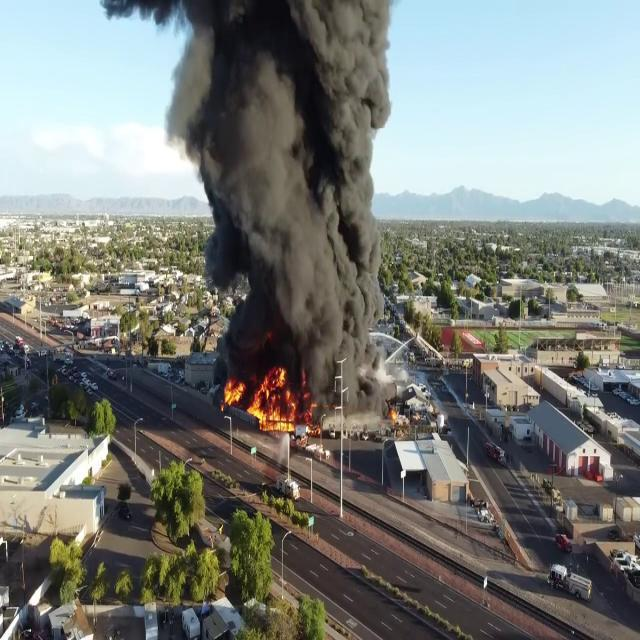Fire: (222, 361, 308, 432)
Smoke: (152, 0, 407, 410)
